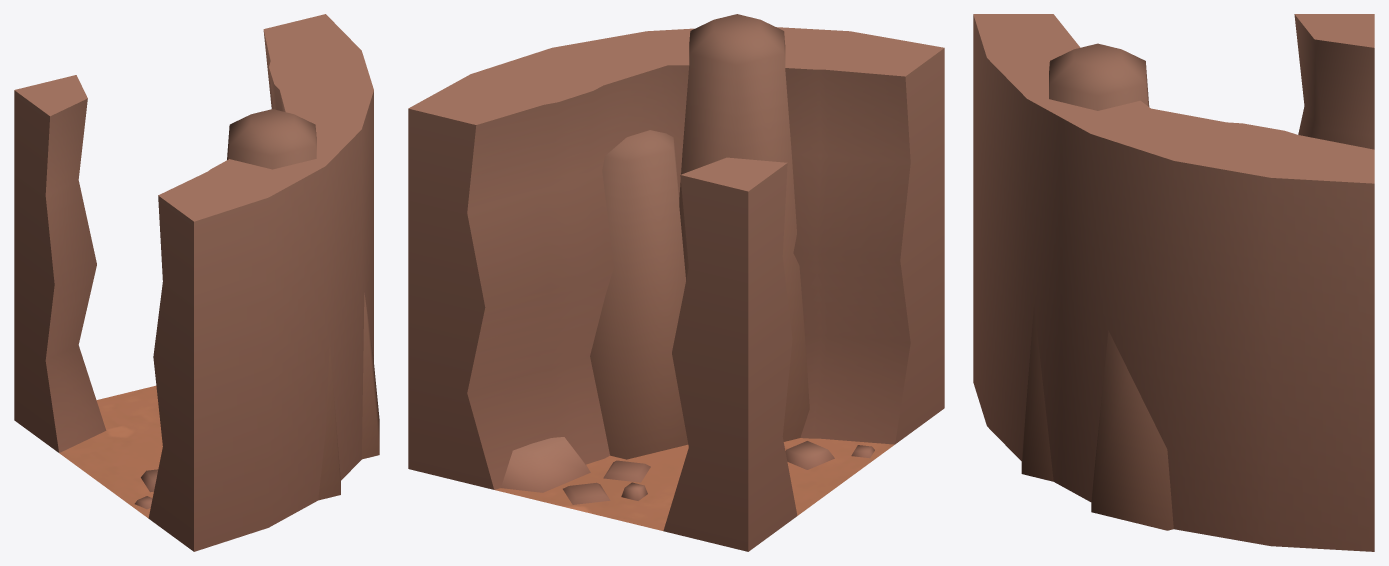
Rendered from corridor-corner.obj.
3 views of the same model, side by side, from view 1: azimuth 30°, elevation 25°; view 2: azimuth 150°, elevation 25°; view 3: azimuth 270°, elevation 25° (orthographic). The views are drawn at different scales.
Parts seen in each view (by area): view 1: corridor-corner; view 2: corridor-corner; view 3: corridor-corner.
Boxes of the visible parts, bbox=[...] form: corridor-corner: bbox=[14, 14, 379, 551]; corridor-corner: bbox=[408, 14, 944, 551]; corridor-corner: bbox=[973, 14, 1374, 551].
Size of the model in its own units: 4 by 4.4 by 4.
1 material, 1 textured.
